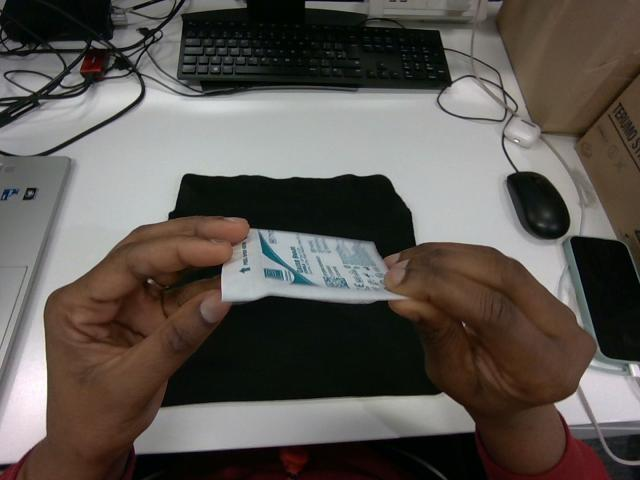gauze: (222, 229, 404, 302)
